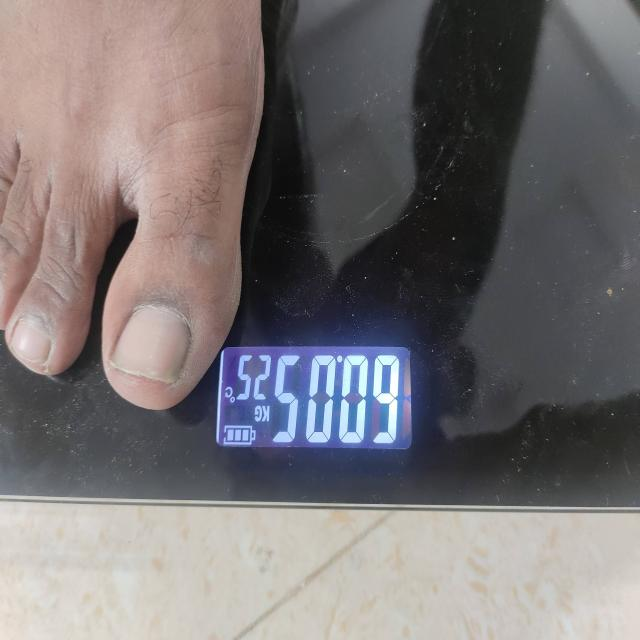ws: (0, 0, 640, 514)
